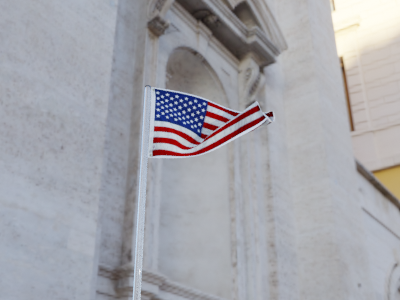America flag: (151, 87, 275, 157)
